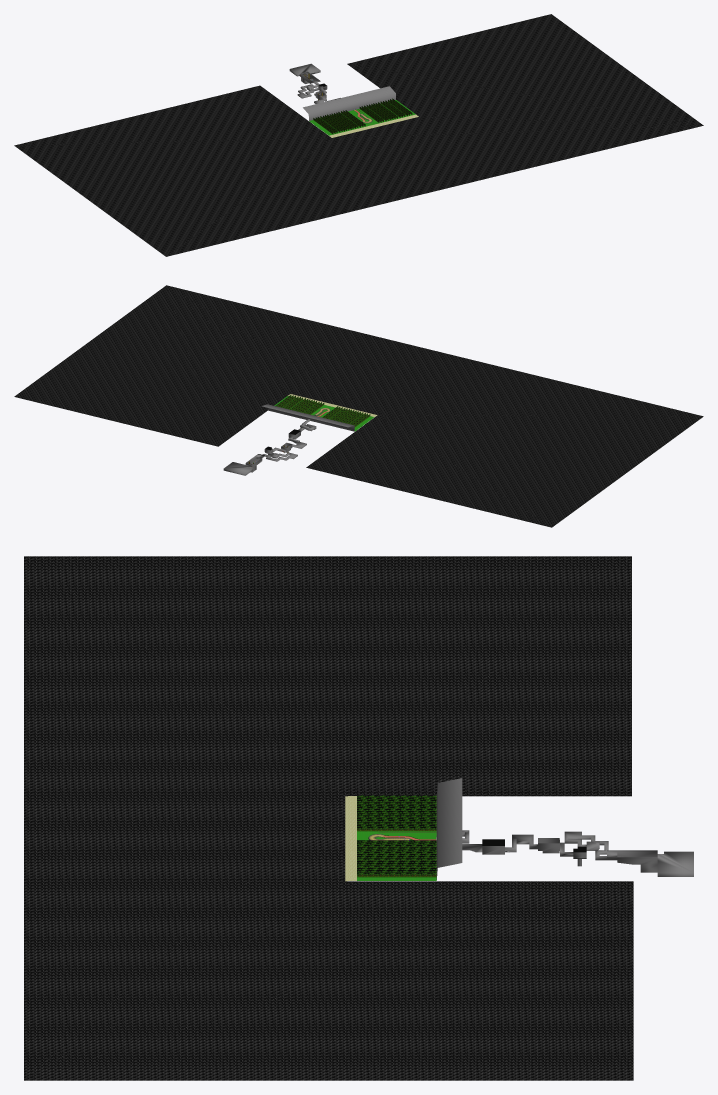
3 views of the same model, one above another, from view 1: azimuth 30°, elevation 25°; view 2: azimuth 150°, elevation 25°; view 3: azimuth 270°, elevation 25° (orthographic). The views are drawn at different scales.
Parts seen in each view (by area): view 1: Untitled-SKP--Material15.044, Untitled-SKP--Material15.039, Untitled-SKP--Material15.040, Untitled-SKP--Material15.048; view 2: Untitled-SKP--Material15.044, Untitled-SKP--Material15.039, Untitled-SKP--Material15.040; view 3: Untitled-SKP--Material15.044, Untitled-SKP--Material15.039, Untitled-SKP--Material15.040, Untitled-SKP--Material15.049, Untitled-SKP--Material15.048.
Boxes of the visible parts, box(x1,y1,x2,y2) form: Untitled-SKP--Material15.044: box(14, 14, 703, 256); Untitled-SKP--Material15.039: box(289, 63, 395, 120); Untitled-SKP--Material15.040: box(313, 98, 412, 134); Untitled-SKP--Material15.048: box(309, 100, 415, 135); Untitled-SKP--Material15.044: box(14, 285, 703, 527); Untitled-SKP--Material15.039: box(223, 404, 354, 475); Untitled-SKP--Material15.040: box(275, 395, 370, 427); Untitled-SKP--Material15.044: box(24, 556, 633, 1080); Untitled-SKP--Material15.039: box(436, 778, 693, 879); Untitled-SKP--Material15.040: box(357, 795, 436, 877); Untitled-SKP--Material15.049: box(345, 796, 356, 881); Untitled-SKP--Material15.048: box(357, 831, 436, 880).
Bounding box in the file's own units: 994743 × 37095 × 536910.
Materials: 25 (24 with a texture image).
